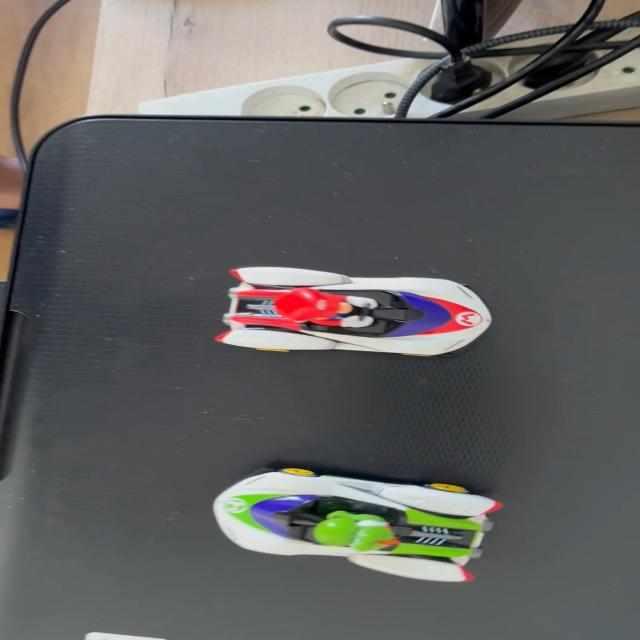mario: (214, 259, 508, 360)
yoshi: (198, 458, 526, 599)
